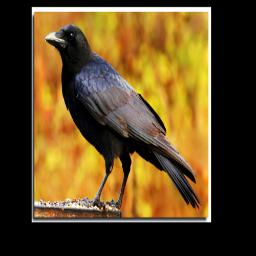Crow: (45, 21, 202, 210)
